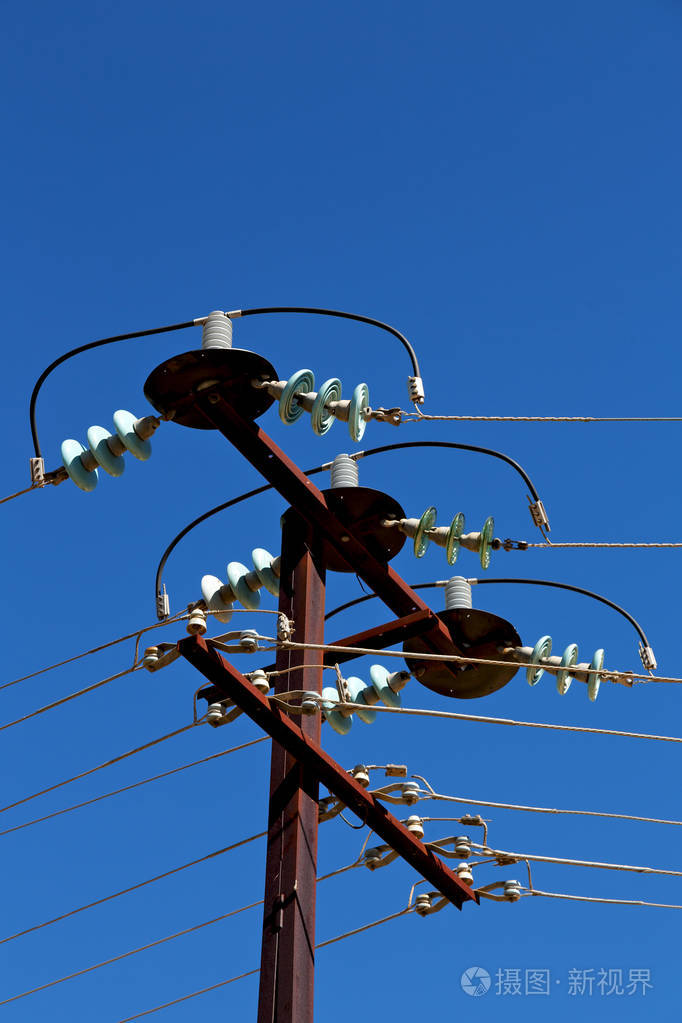insulator: (56, 410, 152, 493), (199, 546, 284, 628), (279, 368, 371, 441), (404, 505, 497, 574), (519, 633, 608, 704), (328, 668, 400, 736)
